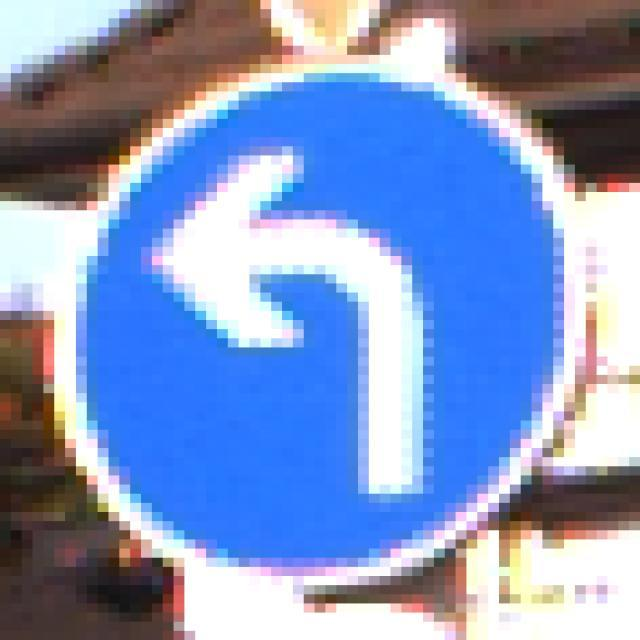compulsary turn left ahead: (36, 49, 597, 594)
